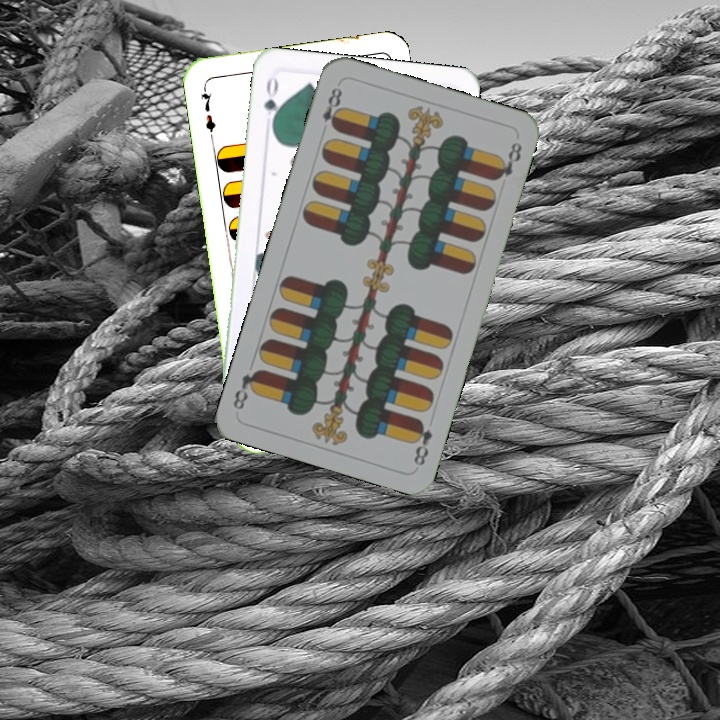E7: (196, 82, 218, 141)
E8: (408, 415, 435, 469), (318, 83, 345, 133)
GO: (259, 73, 283, 132)
